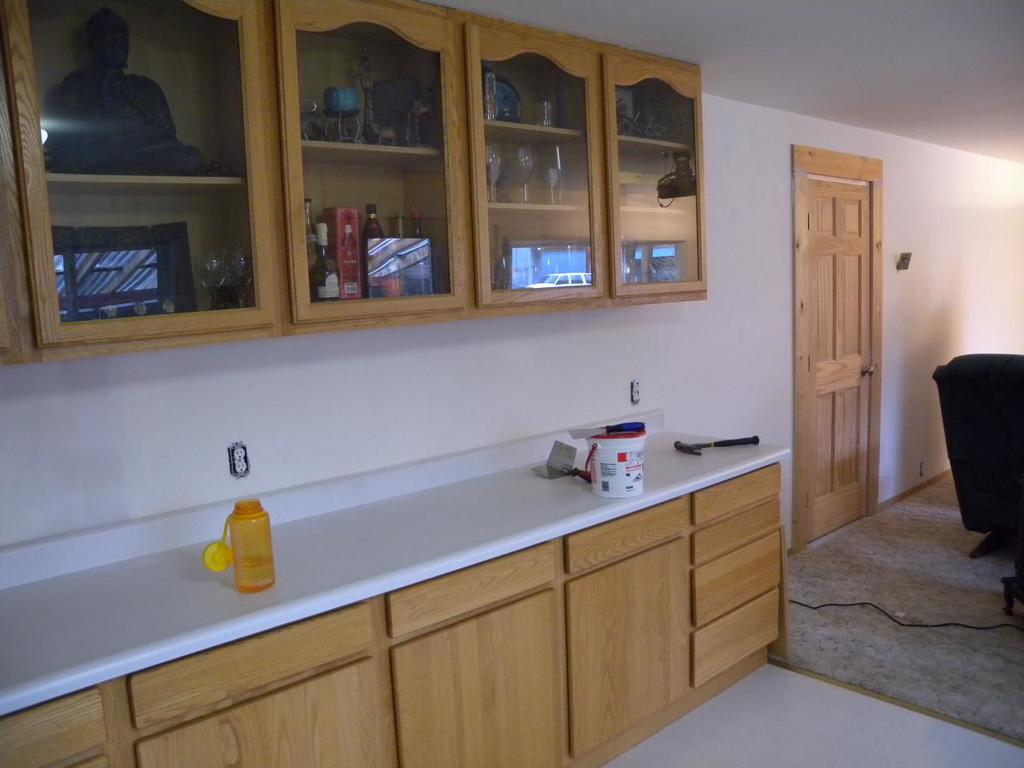Cabinetry: (0, 446, 790, 767), (136, 32, 726, 365)
